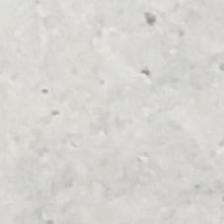Non_Crack: (33, 42, 221, 211)
